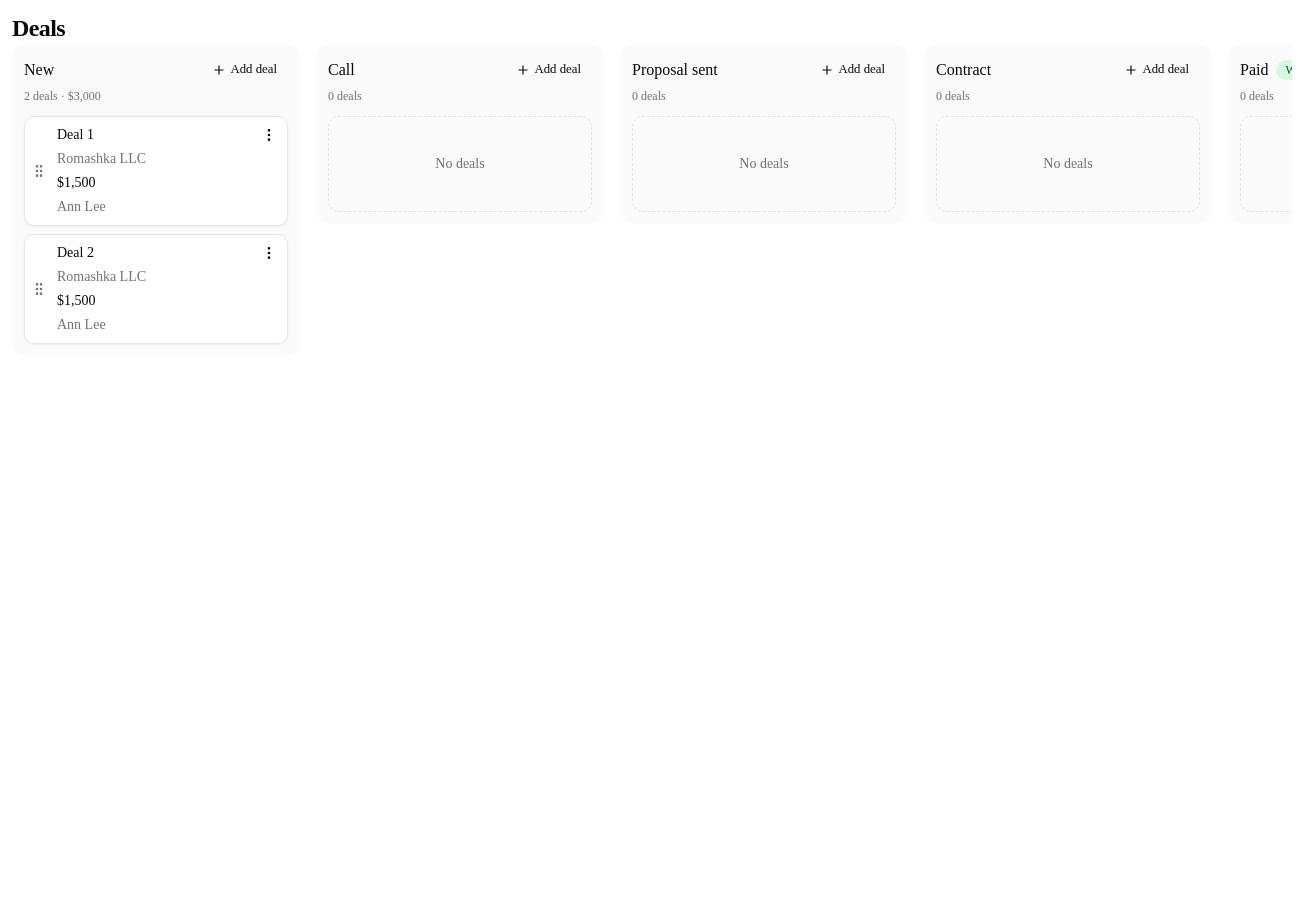
Test: DealBoard › failed moves › should put back each failed card when two queued moves fail
The width and height of the screenshot is (1304, 912).
Click the button named "Actions for Deal 1".
click(269, 135)  # box [255,121,283,149]
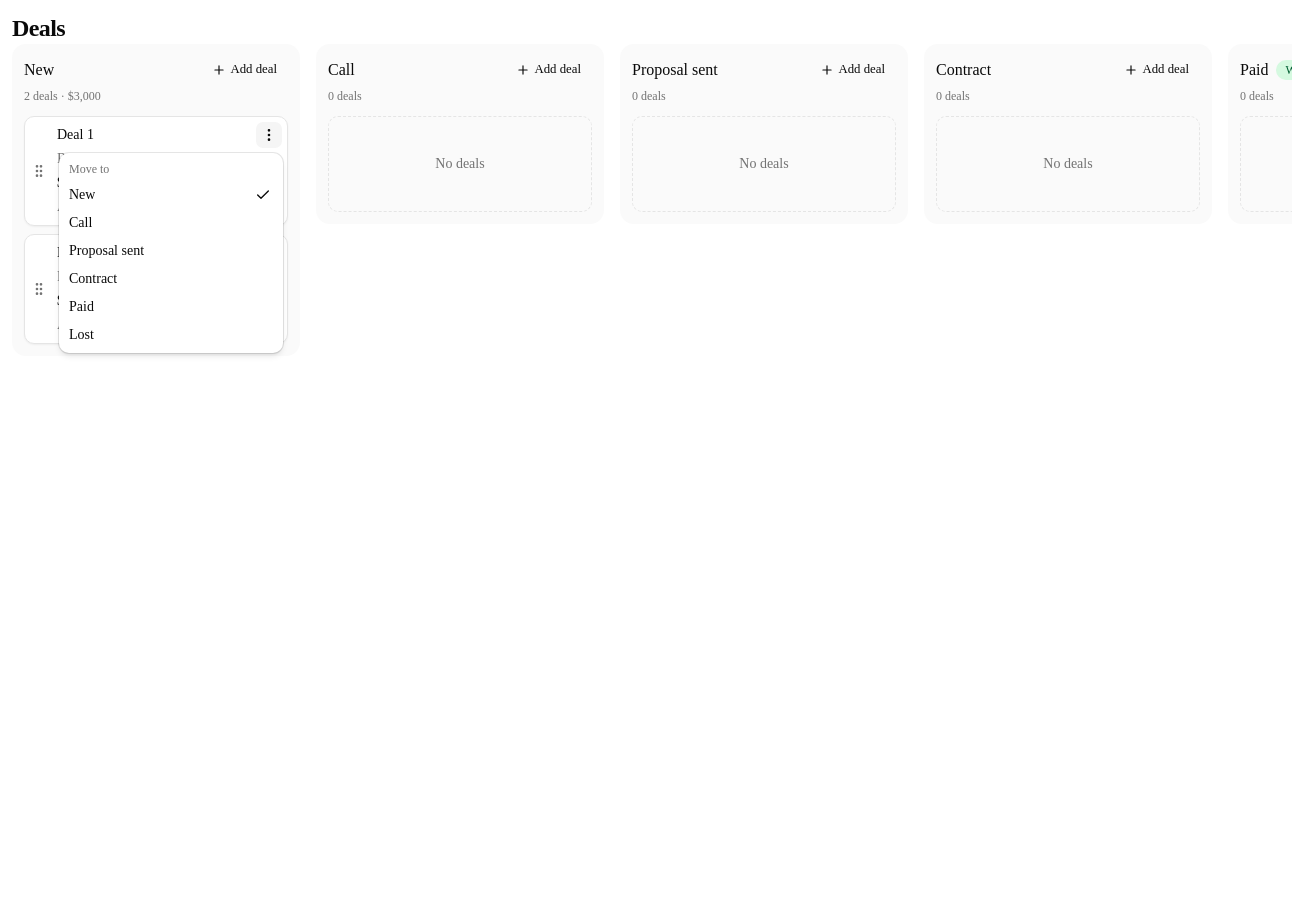
Click the menu item "Call".
click(81, 222)  # box [69,215,92,230]
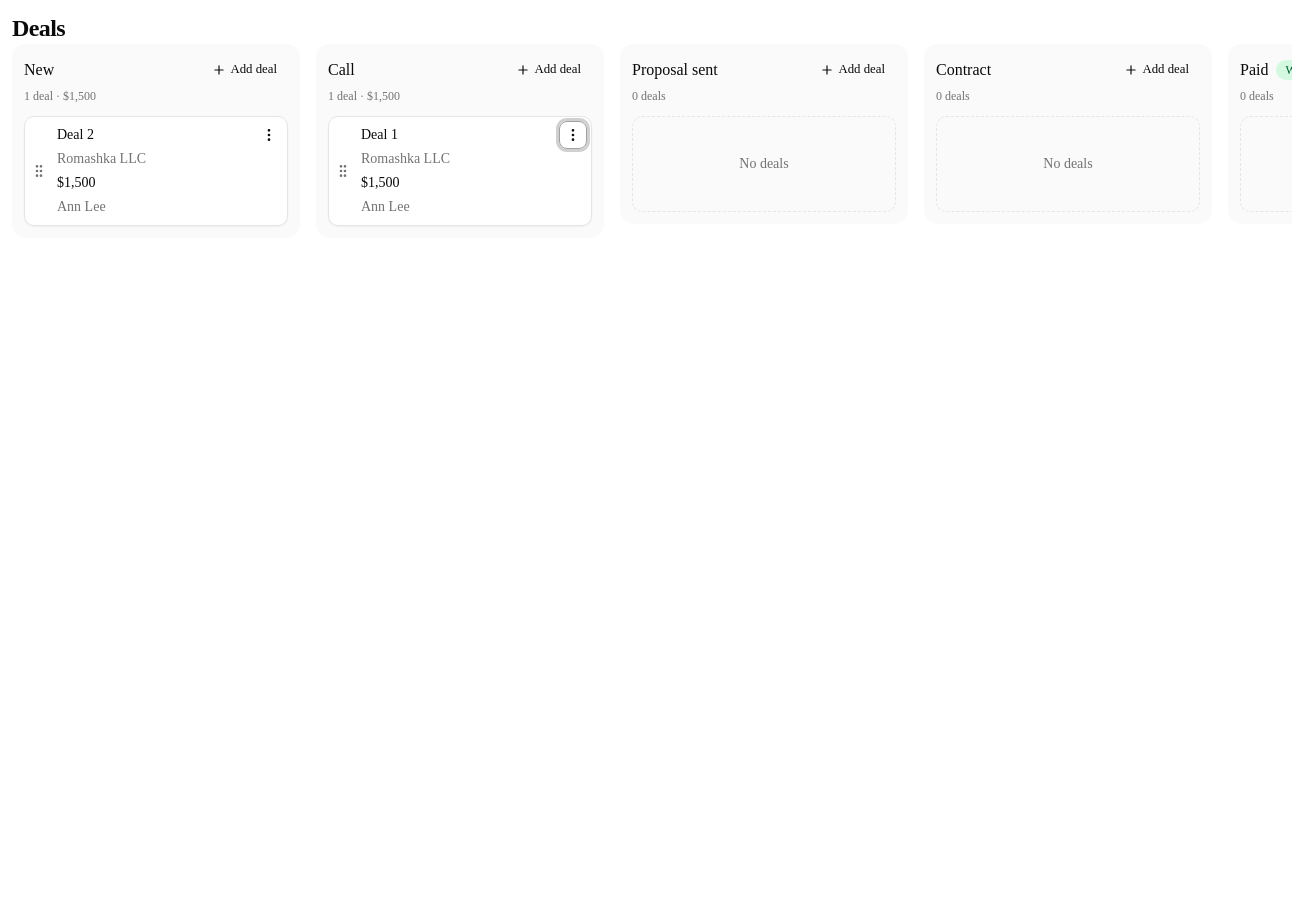
Click the button named "Actions for Deal 2".
click(269, 135)  # box [255,121,283,149]
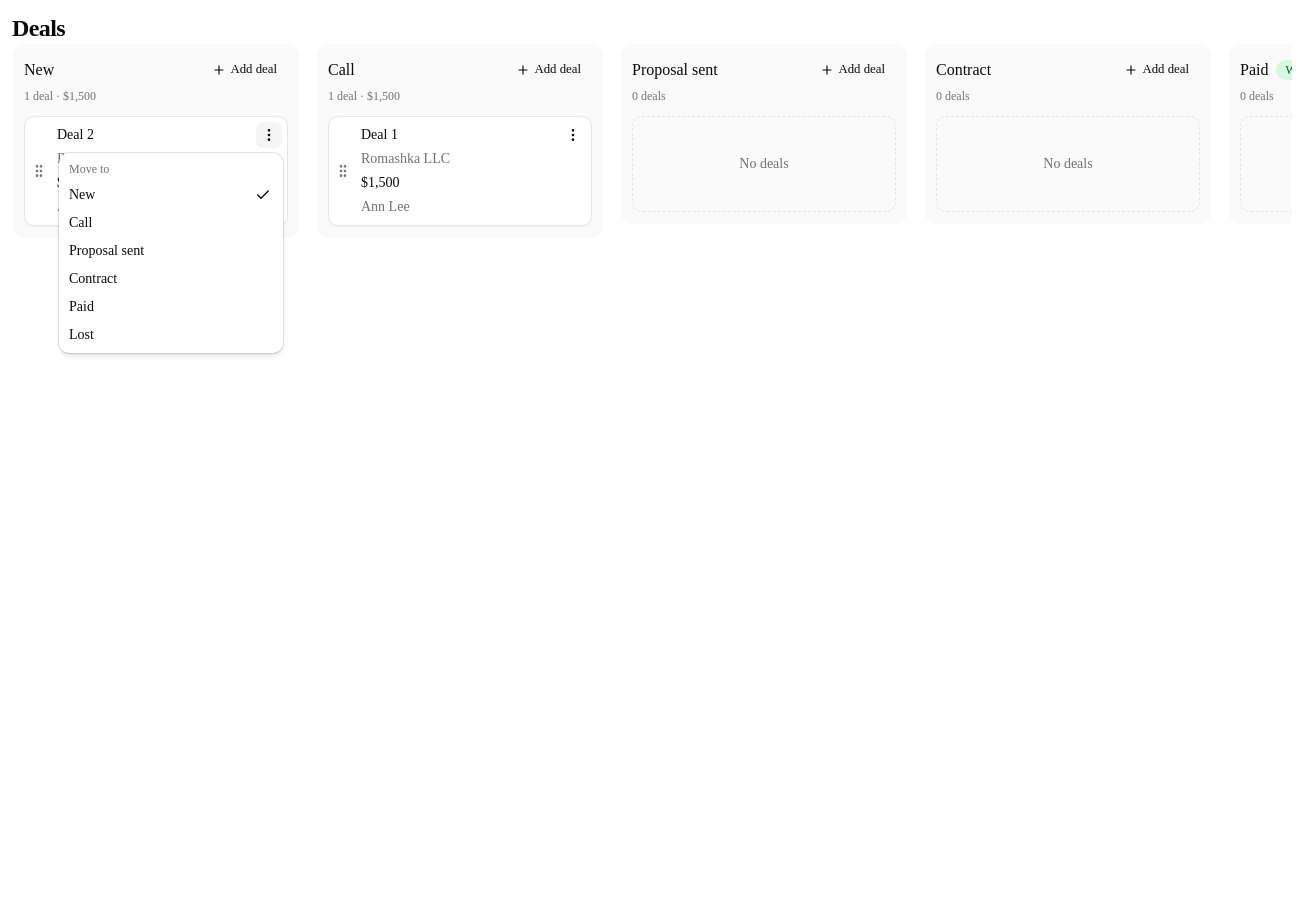
Click the menu item "Call".
click(81, 222)  # box [69,215,92,230]
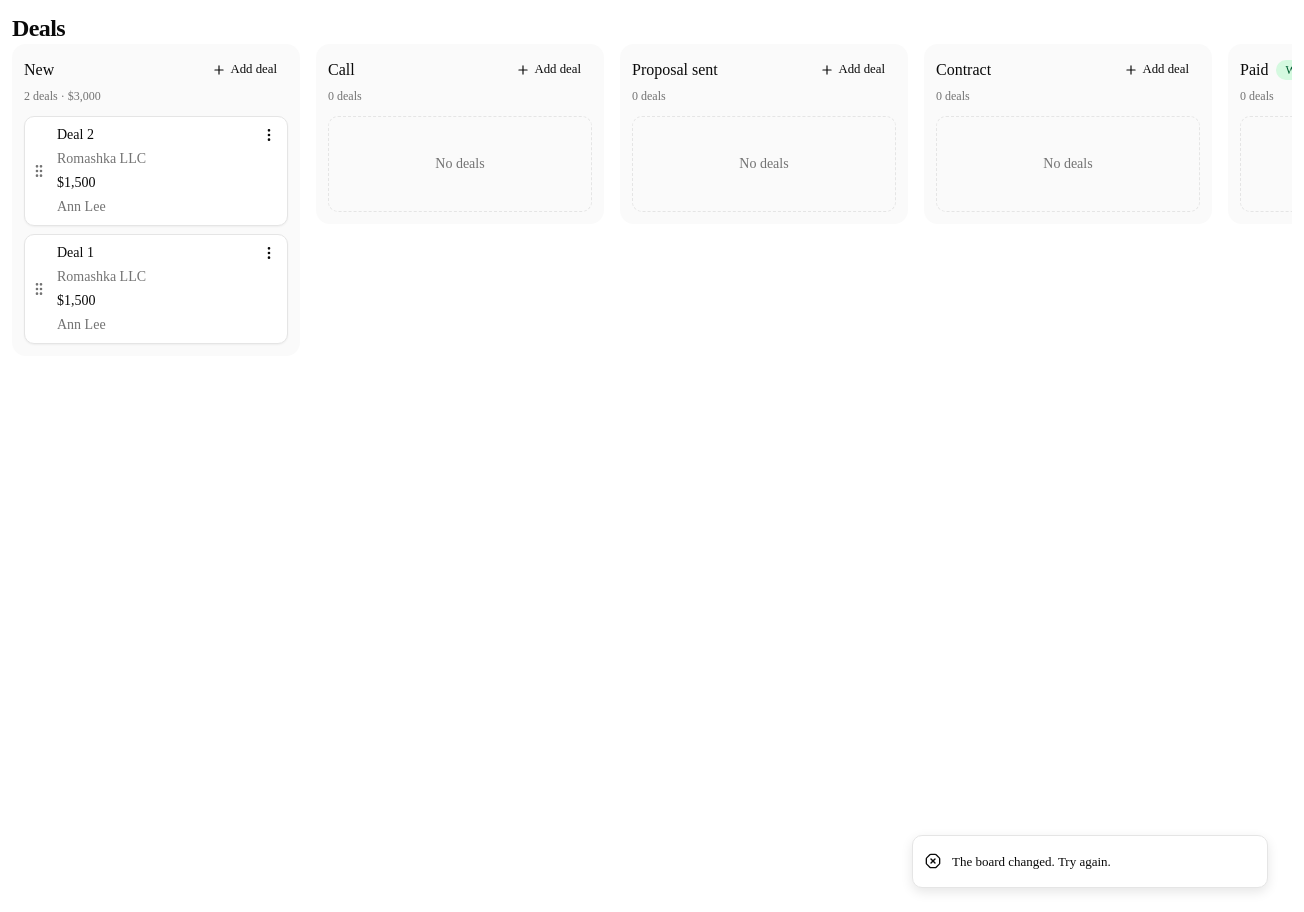
Expected: the text "The board changed. Try again." is shown, [952,852,1111,871]
